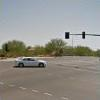Traffic light: (59, 27, 84, 44)
